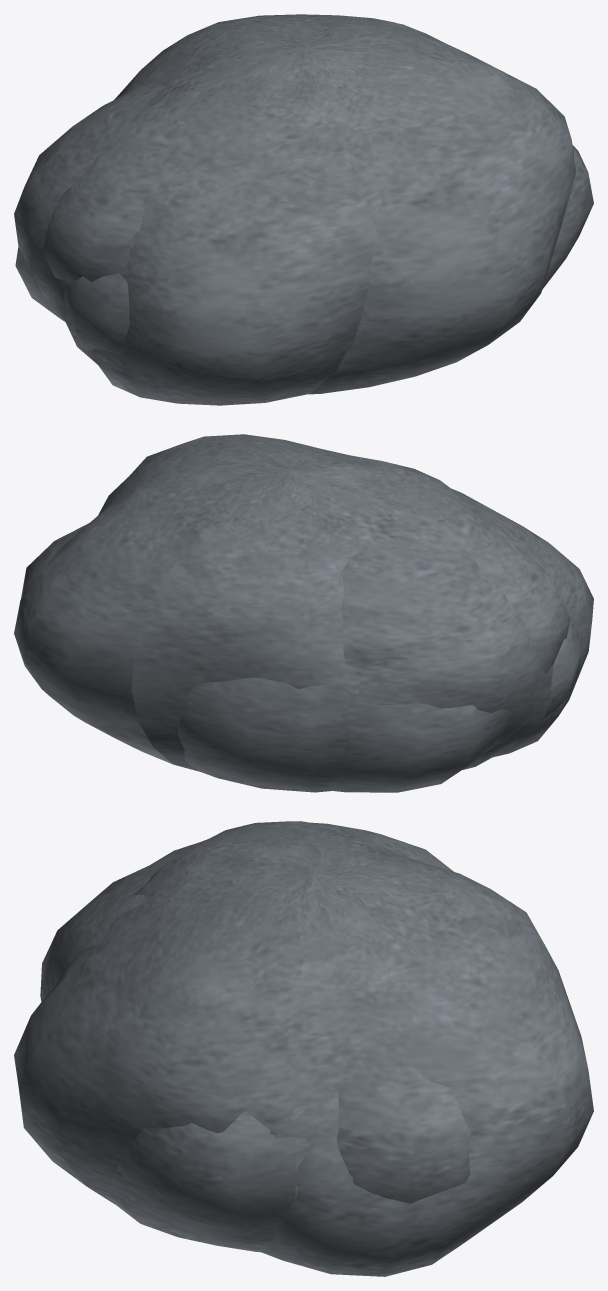
Rendered from guti_pebble_variations.glb.
3 views of the same model, one above another, from view 1: azimuth 30°, elevation 25°; view 2: azimuth 150°, elevation 25°; view 3: azimuth 270°, elevation 25° (orthographic). The views are drawn at different scales.
Visible parts, largest first — view 1: dark_variation_3, dark_variation_2, dark_variation_1; view 2: dark_variation_3, dark_variation_2, dark_variation_1; view 3: dark_variation_3, dark_variation_2, dark_variation_1.
Boxes of the visible parts, x1=… form: dark_variation_3: x1=15, y1=14, x2=575, y2=394; dark_variation_2: x1=14, y1=80, x2=387, y2=405; dark_variation_1: x1=64, y1=144, x2=593, y2=354; dark_variation_3: x1=14, y1=434, x2=570, y2=792; dark_variation_2: x1=21, y1=488, x2=593, y2=792; dark_variation_1: x1=462, y1=615, x2=583, y2=769; dark_variation_3: x1=14, y1=821, x2=593, y2=1276; dark_variation_2: x1=40, y1=821, x2=470, y2=1203; dark_variation_1: x1=111, y1=1105, x2=310, y2=1252.
Size of the model in its own units: 0.025 by 0.0122 by 0.022.
Materials: 2 (2 with a texture image).
